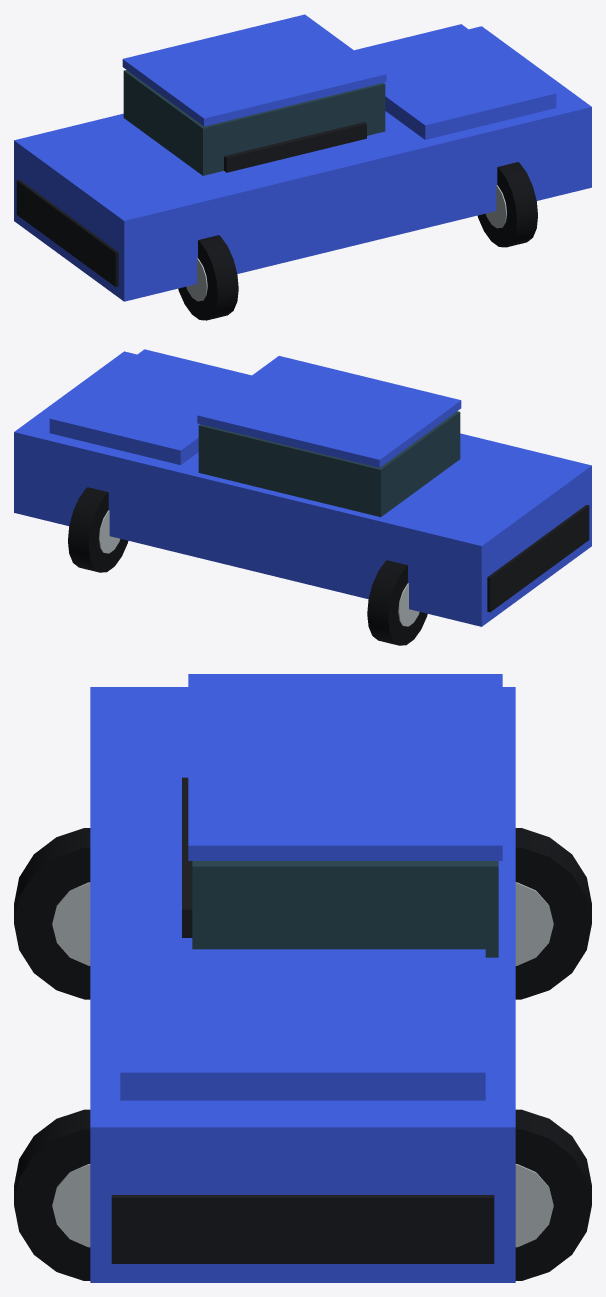
File: chevy_tahoe.glb
3 views of the same model, one above another, from view 1: azimuth 30°, elevation 25°; view 2: azimuth 150°, elevation 25°; view 3: azimuth 270°, elevation 25° (orthographic). The views are drawn at different scales.
Parts seen in each view (by area): view 1: body, roof, hood, cabin, rear_bumper, front_right_wheel, rear_right_wheel, interior; view 2: body, roof, cabin, hood, rear_bumper, front_left_wheel, rear_left_wheel; view 3: body, roof, hood, cabin, front_bumper, front_left_wheel, front_right_wheel, rear_left_wheel, rear_right_wheel, interior.
Part boxes in pixels (left/top/right/bottom): body: left=14, top=26, right=591, bottom=301; roof: left=122, top=14, right=386, bottom=126; hood: left=354, top=24, right=556, bottom=139; cabin: left=123, top=70, right=385, bottom=175; rear_bumper: left=16, top=179, right=118, bottom=286; front_right_wheel: left=477, top=162, right=537, bottom=247; rear_right_wheel: left=178, top=235, right=238, bottom=320; interior: left=224, top=122, right=366, bottom=172; body: left=14, top=351, right=591, bottom=626; roof: left=197, top=356, right=461, bottom=467; cabin: left=198, top=411, right=460, bottom=517; hood: left=49, top=349, right=251, bottom=464; rear_bumper: left=487, top=505, right=589, bottom=612; front_left_wheel: left=68, top=487, right=128, bottom=572; rear_left_wheel: left=367, top=560, right=427, bottom=645; body: left=90, top=687, right=515, bottom=1282; roof: left=188, top=674, right=502, bottom=860; hood: left=120, top=949, right=485, bottom=1100; cabin: left=192, top=861, right=498, bottom=957; front_bumper: left=111, top=1195, right=494, bottom=1263; front_left_wheel: left=515, top=1109, right=591, bottom=1280; front_right_wheel: left=14, top=1109, right=90, bottom=1280; rear_left_wheel: left=515, top=828, right=591, bottom=999; rear_right_wheel: left=14, top=828, right=90, bottom=999; interior: left=182, top=777, right=192, bottom=937.
Bounding box in the file's own units: 4.96 × 1.74 × 2.72.
